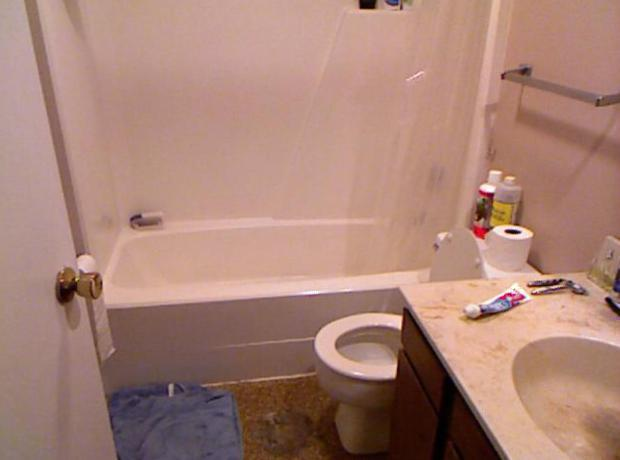Lavamanos: (507, 299, 617, 457)
Sanitario: (302, 216, 549, 445)
